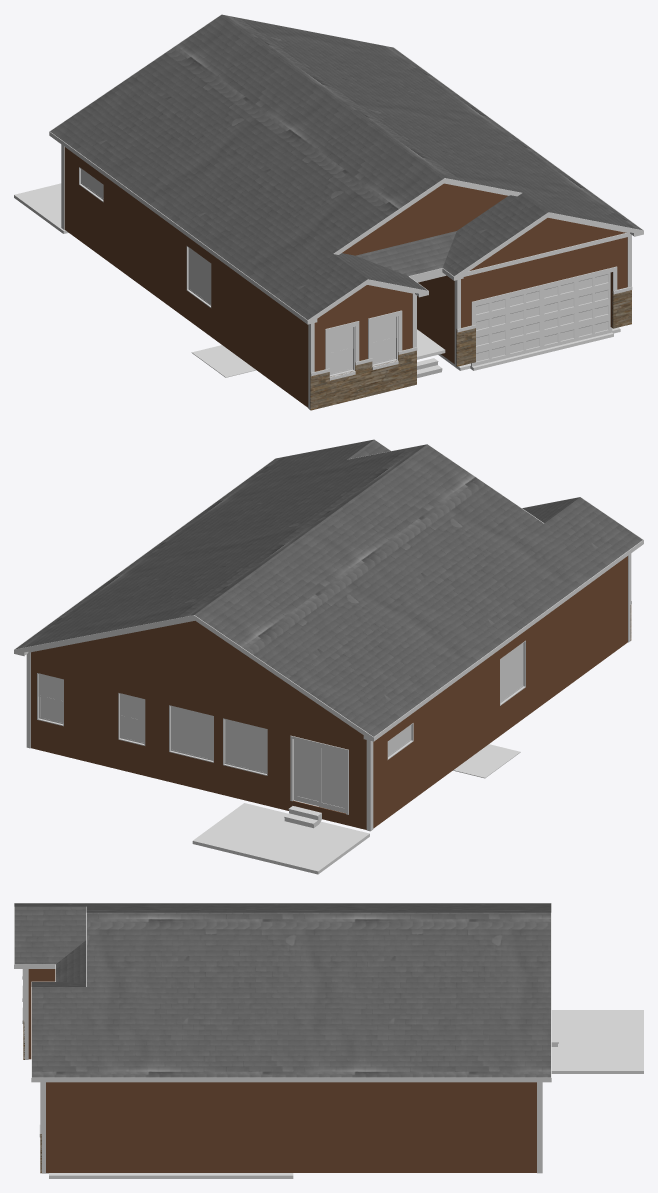
File: 138-1251-dm-farmhouse.glb
The picture shows the model from 3 angles, top to bottom: view 1: azimuth 30°, elevation 25°; view 2: azimuth 150°, elevation 25°; view 3: azimuth 270°, elevation 25°; orthographic projection. The views are drawn at different scales.
Visible parts, largest first — view 1: Basic Roof Wood Rafter 4" - Asphalt Shingle - Insulated_619f, Basic Wall BSB Exterior - Stud_3.5" - Sheathing_0.5" - _1f1e, Traditional - BSB Exterior - Overhead Garage Door - Clo_dc09, Basic Wall BSB Exterior - Stud_3.5" - Sheathing_0.5" - _712f, Basic Wall BSB Exterior - Stud_1.5" - Sheathing_0.5" - _9b35, Fascia Fascia-Flat 1x6 w/12" Soffit Bd [4312098], Basic Wall BSB Exterior - Stud_3.5" - Sheathing_0.5" - _9996, Basic Wall BSB Exterior - Stone Veneer_2" [4311933], Basic Wall BSB Exterior - Stud_1.5" - Sheathing_0.5" - _8cac, Basic Wall BSB Exterior - Stud_3.5" - Sheathing_0.5" - _4ee6, Basic Roof Wood Rafter 4" - Asphalt Shingle - Insulated_d1f3, Trim - Corner Boards1 Trim - Corner Boards [4312067] (+10 smaller); view 2: Basic Roof Wood Rafter 4" - Asphalt Shingle - Insulated_619f, Basic Wall BSB Exterior - Stud_3.5" - Sheathing_0.5" - _7707, Basic Wall BSB Exterior - Stud_3.5" - Sheathing_0.5" - _1f1e, Basic Wall BSB Exterior - Stud_1.5" - Sheathing_0.5" - _3c61, Floor BSB Concrete Slab - 4" - Slope Option [4280403], Fascia Fascia-Flat 1x6 w/12" Soffit Bd [4312098], BSB Exterior - SGD XO - 1-Lite 6068 [4277598], BSB Fixed 5050 FX w/ Sill [4277767], BSB Fixed 5050 FX w/ Sill [4277652], Trim - Corner Boards1 Trim - Corner Boards [4312067], BSB Single Hung 3050 SH w/ Sill [4277308], BSB Single Hung 3050 SH w/ Sill [4277413] (+3 smaller); view 3: Basic Roof Wood Rafter 4" - Asphalt Shingle - Insulated_619f, Basic Wall BSB Exterior - Stud_3.5" - Sheathing_0.5" - _035e, Basic Wall BSB Exterior - Stud_3.5" - Sheathing_0.5" - _6094, Basic Wall BSB Exterior - Stud_3.5" - Sheathing_0.5" - _b646, Floor BSB Concrete Slab - 4" - Slope Option [4280403], Fascia Fascia-Flat 1x6 w/12" Soffit Bd [4312098], Trim - Corner Boards1 Trim - Corner Boards [4312067], Floor BSB Concrete Slab - 4" - Slope Option [4298227], Basic Roof Wood Rafter 4" - Asphalt Shingle - Insulated_d1f3, Basic Wall BSB Exterior - Stud_3.5" - Sheathing_0.5" - _73a8.
Part boxes in pixels (box(x1,y1,x2,y2)): Basic Roof Wood Rafter 4" - Asphalt Shingle - Insulated_619f: box(50, 14, 642, 319); Basic Wall BSB Exterior - Stud_3.5" - Sheathing_0.5" - _1f1e: box(64, 147, 295, 398); Traditional - BSB Exterior - Overhead Garage Door - Clo_dc09: box(471, 272, 612, 366); Basic Wall BSB Exterior - Stud_3.5" - Sheathing_0.5" - _712f: box(461, 237, 627, 327); Basic Wall BSB Exterior - Stud_1.5" - Sheathing_0.5" - _9b35: box(342, 183, 507, 255); Fascia Fascia-Flat 1x6 w/12" Soffit Bd [4312098]: box(49, 14, 643, 323); Basic Wall BSB Exterior - Stud_3.5" - Sheathing_0.5" - _9996: box(314, 285, 412, 371); Basic Wall BSB Exterior - Stone Veneer_2" [4311933]: box(310, 348, 416, 410); Basic Wall BSB Exterior - Stud_1.5" - Sheathing_0.5" - _8cac: box(470, 218, 626, 270); Basic Wall BSB Exterior - Stud_3.5" - Sheathing_0.5" - _4ee6: box(417, 275, 454, 363); Basic Roof Wood Rafter 4" - Asphalt Shingle - Insulated_d1f3: box(356, 231, 456, 276); Trim - Corner Boards1 Trim - Corner Boards [4312067]: box(61, 144, 631, 409); Basic Roof Wood Rafter 4" - Asphalt Shingle - Insulated_619f: box(15, 439, 642, 736); Basic Wall BSB Exterior - Stud_3.5" - Sheathing_0.5" - _7707: box(31, 652, 366, 829); Basic Wall BSB Exterior - Stud_3.5" - Sheathing_0.5" - _1f1e: box(373, 566, 614, 828); Basic Wall BSB Exterior - Stud_1.5" - Sheathing_0.5" - _3c61: box(33, 621, 357, 731); Floor BSB Concrete Slab - 4" - Slope Option [4280403]: box(192, 803, 369, 874); Fascia Fascia-Flat 1x6 w/12" Soffit Bd [4312098]: box(14, 439, 643, 740); BSB Exterior - SGD XO - 1-Lite 6068 [4277598]: box(290, 735, 348, 814); BSB Fixed 5050 FX w/ Sill [4277767]: box(223, 718, 267, 775); BSB Fixed 5050 FX w/ Sill [4277652]: box(169, 705, 213, 762); Trim - Corner Boards1 Trim - Corner Boards [4312067]: box(26, 553, 631, 831); BSB Single Hung 3050 SH w/ Sill [4277308]: box(118, 693, 145, 745); BSB Single Hung 3050 SH w/ Sill [4277413]: box(37, 673, 63, 726); Basic Roof Wood Rafter 4" - Asphalt Shingle - Insulated_619f: box(14, 903, 550, 1077); Basic Wall BSB Exterior - Stud_3.5" - Sheathing_0.5" - _035e: box(294, 1082, 536, 1172); Basic Wall BSB Exterior - Stud_3.5" - Sheathing_0.5" - _6094: box(140, 1082, 296, 1172); Basic Wall BSB Exterior - Stud_3.5" - Sheathing_0.5" - _b646: box(46, 1082, 140, 1172); Floor BSB Concrete Slab - 4" - Slope Option [4280403]: box(551, 1010, 643, 1073); Fascia Fascia-Flat 1x6 w/12" Soffit Bd [4312098]: box(14, 903, 551, 1082); Trim - Corner Boards1 Trim - Corner Boards [4312067]: box(23, 969, 542, 1173); Floor BSB Concrete Slab - 4" - Slope Option [4298227]: box(42, 1173, 293, 1178); Basic Roof Wood Rafter 4" - Asphalt Shingle - Insulated_d1f3: box(56, 940, 86, 983); Basic Wall BSB Exterior - Stud_3.5" - Sheathing_0.5" - _73a8: box(28, 969, 55, 1059).
Bounding box in the file's own units: 12.23 × 7.12 × 18.61.
3 materials, 2 textured.
